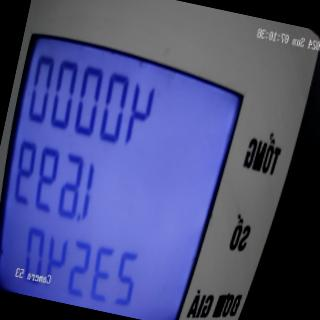screen: (0, 16, 254, 320)
